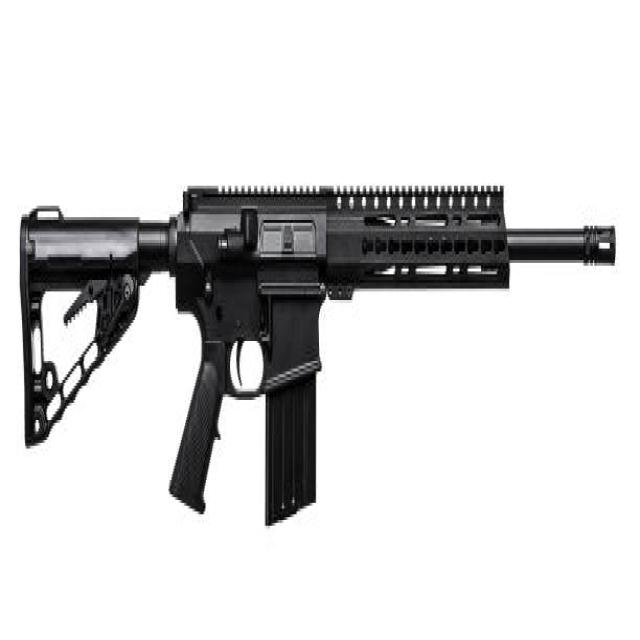rifle: (13, 159, 620, 574)
